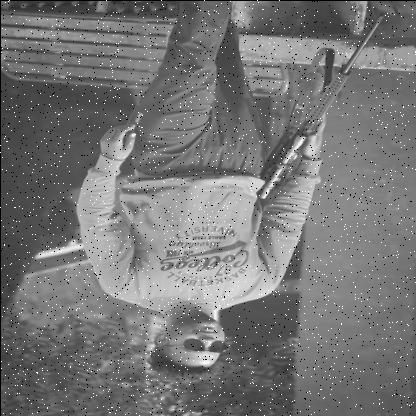rifle: (252, 9, 394, 213)
